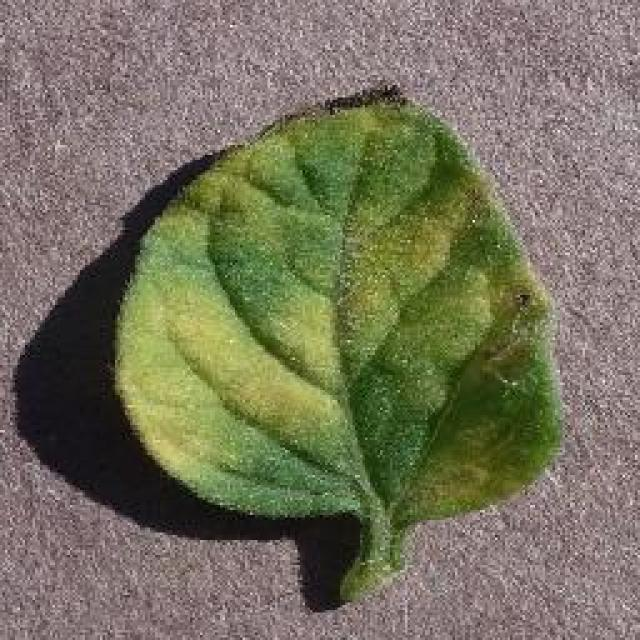leaf mold: (112, 93, 566, 585)
